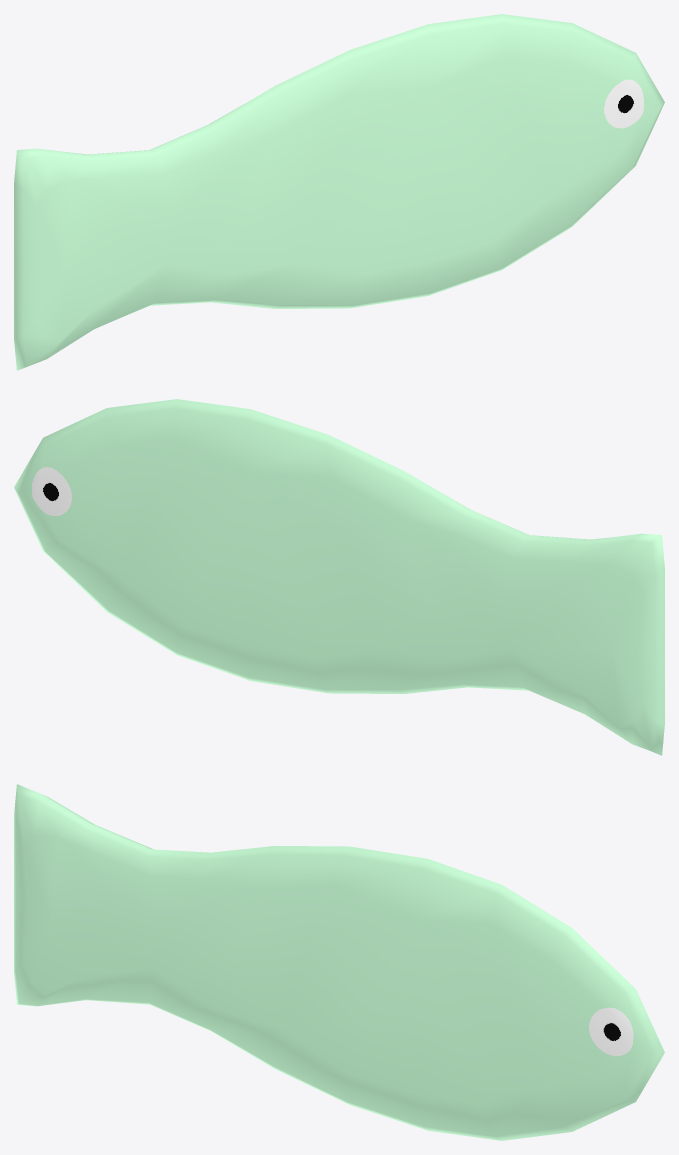
The model's file is fish.glb.
3 renders of one model, top to bottom at view 1: azimuth 30°, elevation 25°; view 2: azimuth 150°, elevation 25°; view 3: azimuth 330°, elevation 25°, orthographic.
Visible parts, largest first — view 1: fish; view 2: fish; view 3: fish.
Part boxes in pixels (box(x1,y1,x2,y2)): fish: box(14, 14, 664, 370); fish: box(14, 399, 664, 755); fish: box(14, 784, 664, 1140).
Size of the model in its own units: 4.52 by 1.8 by 0.1956.
1 material, 1 textured.
